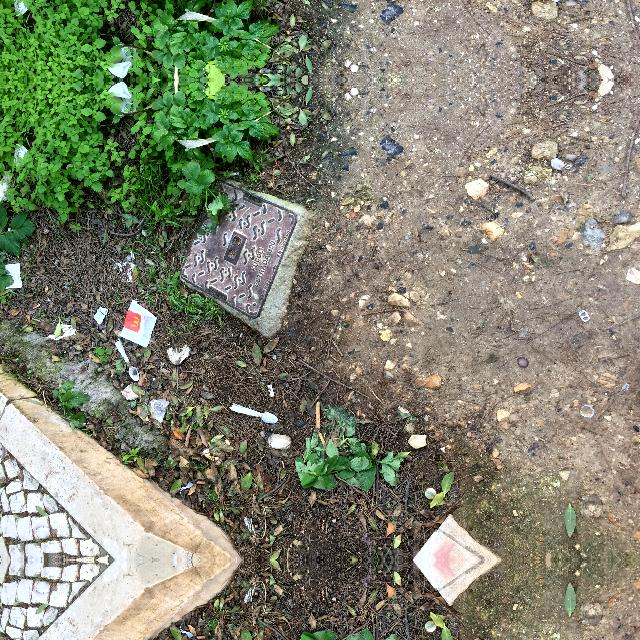Paper: (119, 297, 160, 349), (44, 318, 80, 344), (2, 260, 26, 294), (266, 431, 294, 451), (90, 304, 110, 326)
Plastic: (228, 400, 284, 426), (112, 336, 140, 380), (144, 397, 172, 425)
